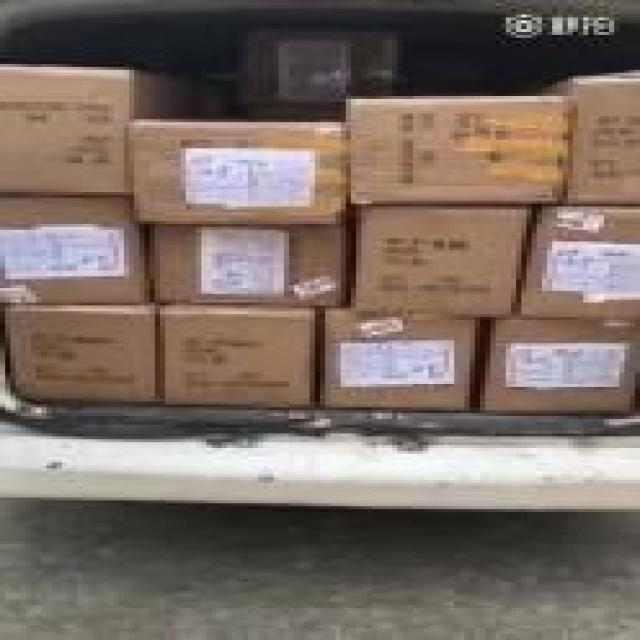box: (351, 96, 573, 204), (129, 119, 351, 224), (0, 64, 160, 195), (351, 207, 532, 317), (320, 305, 480, 413), (155, 303, 315, 407), (0, 195, 150, 303), (0, 303, 160, 404), (150, 224, 346, 305), (475, 317, 640, 413), (516, 207, 640, 317), (547, 70, 640, 204)
